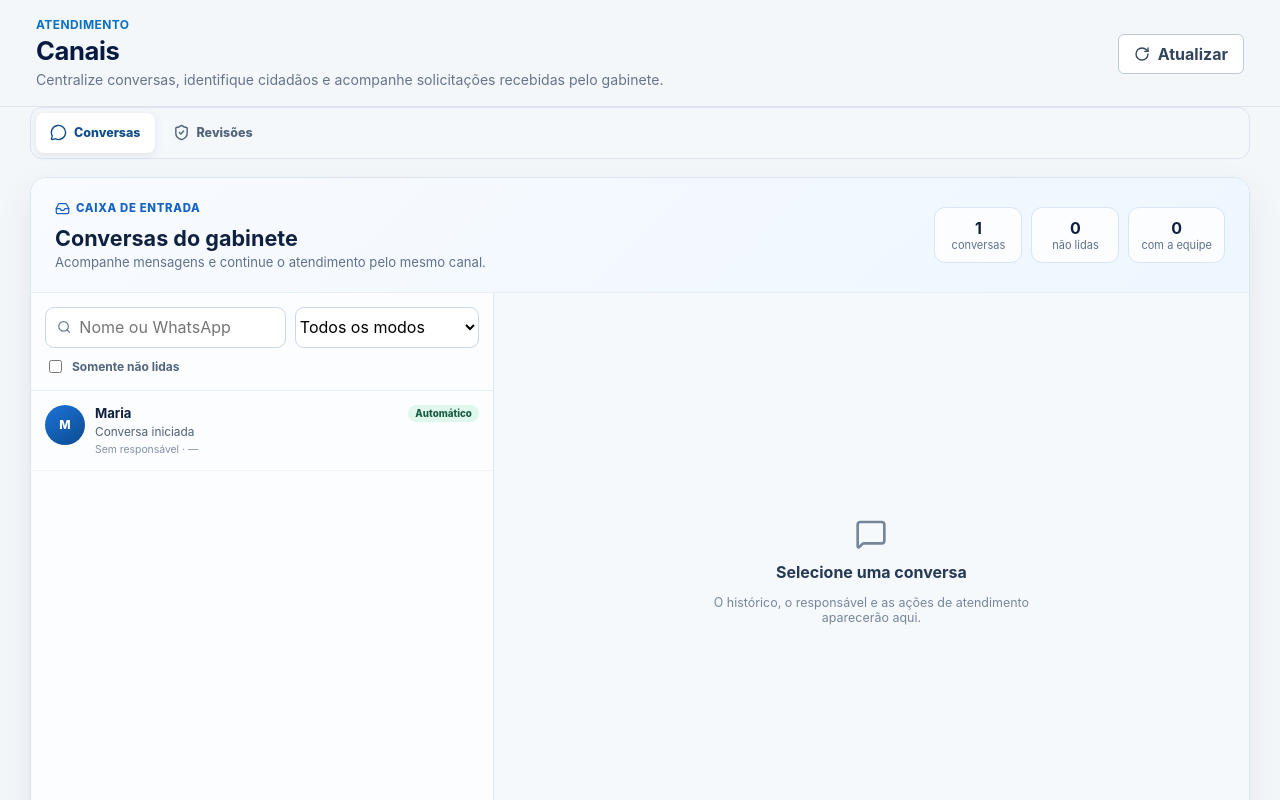
ChannelsPage assisted identity review › inicia a coleta de uma nova solicitação pela conversa
This screenshot has width=1280, height=800.
Step 1. Click the button "M Maria Conversa iniciada Sem responsável · — Automático" → (65, 425), box [31, 390, 493, 470]
(page scrolled)
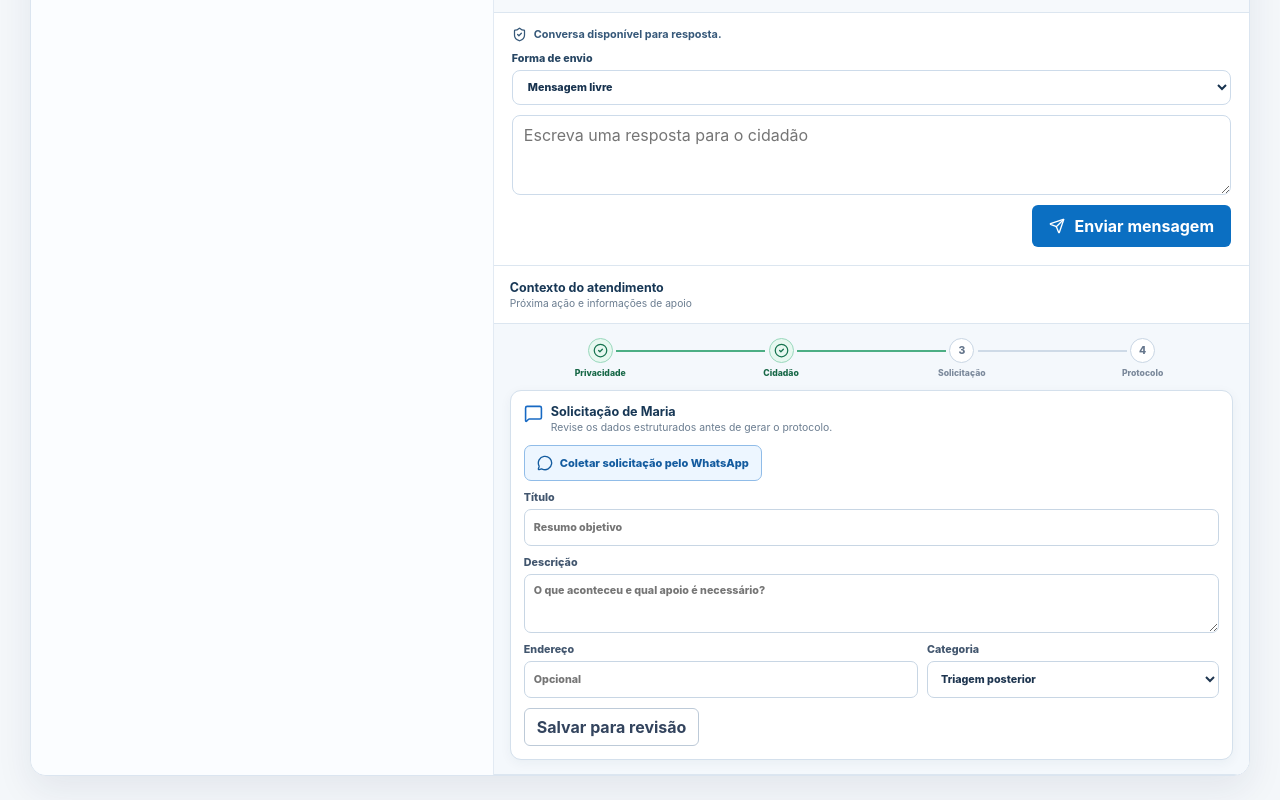
Step 2. Click the button "Coletar solicitação pelo WhatsApp" → (643, 463), box [524, 445, 762, 481]
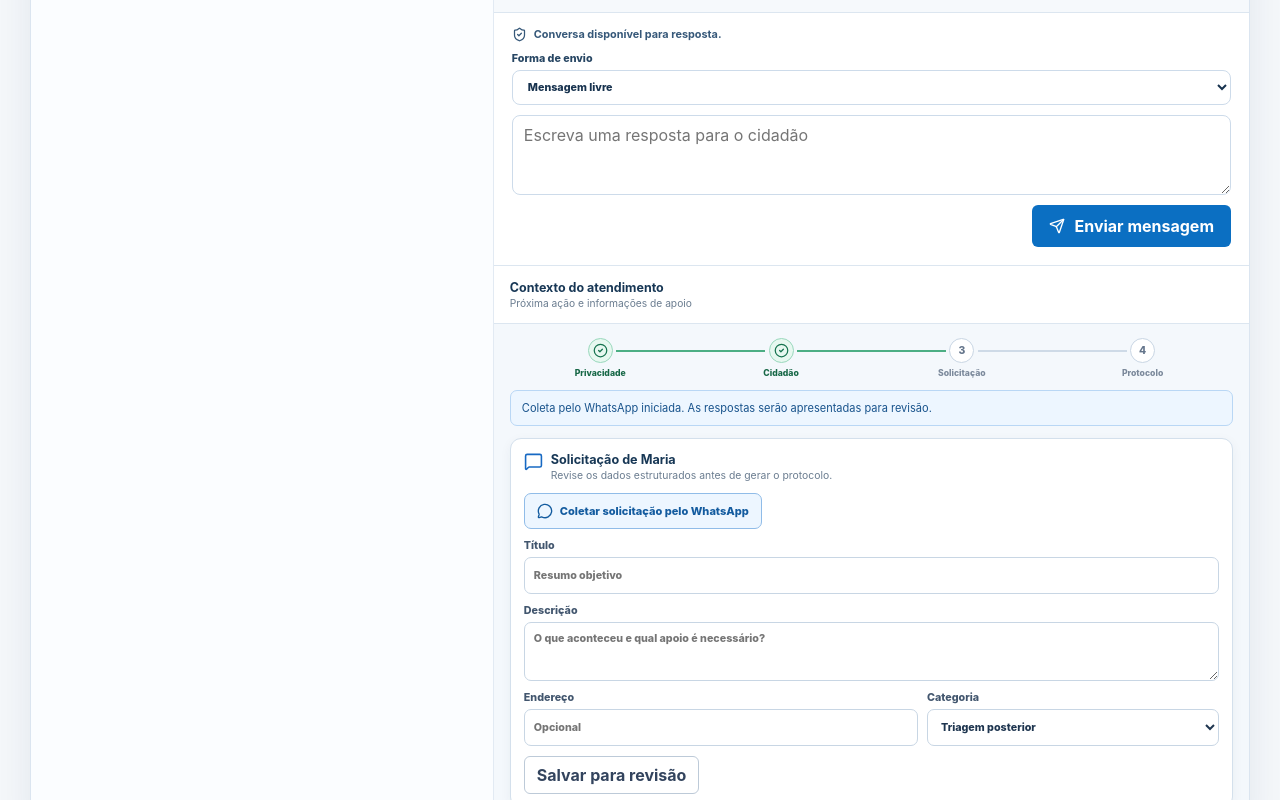
Expected: the text "Coleta pelo WhatsApp iniciada. As respostas serão apresentadas para revisão." is shown, [510, 390, 1233, 426]
